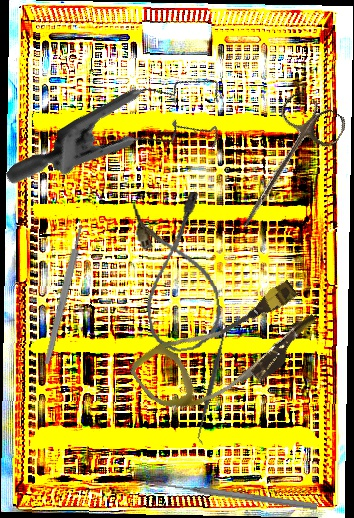Cannula: (126, 260, 327, 441), (130, 190, 226, 356)
Iris Scissors: (219, 87, 350, 246)
Pusher: (154, 478, 318, 512)
Scalpel Handle: (42, 225, 86, 365)
Spatula Surgical: (190, 321, 234, 445)
Speculum: (3, 14, 249, 268)
